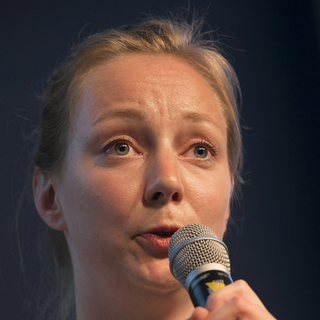eye: (94, 135, 142, 162), (180, 139, 221, 164)
